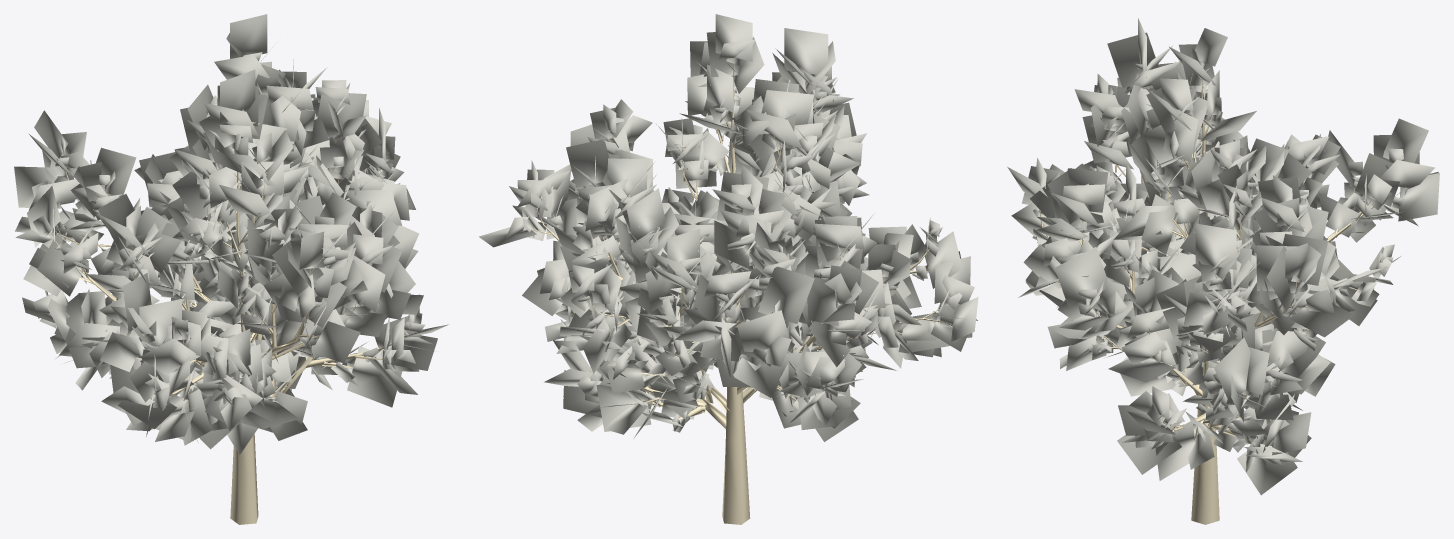
File: oak_large_v0_lod2.glb
The picture shows the model from 3 angles, left to right: view 1: azimuth 30°, elevation 25°; view 2: azimuth 150°, elevation 25°; view 3: azimuth 270°, elevation 25°; orthographic projection.
Parts seen in each view (by area): view 1: Leaves, Branches; view 2: Leaves, Branches; view 3: Leaves, Branches.
Boxes of the visible parts, box(x1,y1,x2,y2) form: Leaves: box(14, 14, 448, 454); Branches: box(49, 93, 411, 524); Leaves: box(479, 14, 978, 441); Branches: box(524, 58, 953, 524); Leaves: box(1007, 18, 1439, 495); Branches: box(1039, 65, 1394, 524).
Size of the model in its own units: 89.72 by 110 by 86.99.
